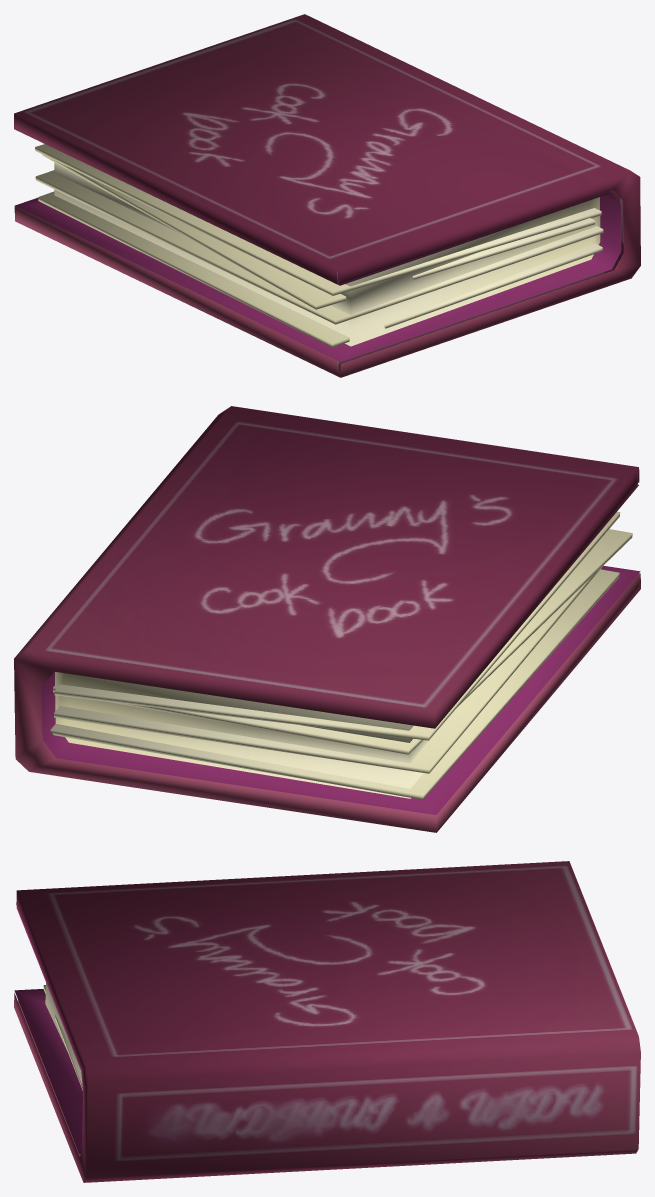
The model's file is Gma Book.fbx.
The picture shows the model from 3 angles, top to bottom: view 1: azimuth 30°, elevation 25°; view 2: azimuth 150°, elevation 25°; view 3: azimuth 270°, elevation 25°; orthographic projection. The views are drawn at different scales.
Visible parts, largest first — view 1: Gma Book; view 2: Gma Book; view 3: Gma Book.
Boxes of the visible parts, x1,y1,x2,y2 form: Gma Book: (14, 14, 640, 377); Gma Book: (14, 406, 640, 832); Gma Book: (14, 861, 640, 1182).
Bounding box in the file's own units: 43.31 × 12.05 × 52.55.
